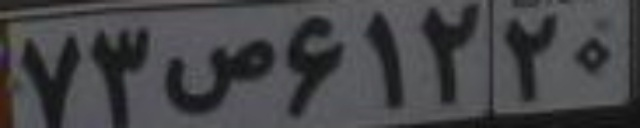0: (572, 36, 612, 73)
1: (361, 10, 403, 110)
2: (417, 3, 480, 105), (500, 9, 560, 100)
3: (90, 26, 153, 126)
6: (283, 14, 344, 115)
7: (19, 33, 82, 127)
saat: (161, 37, 275, 113)
